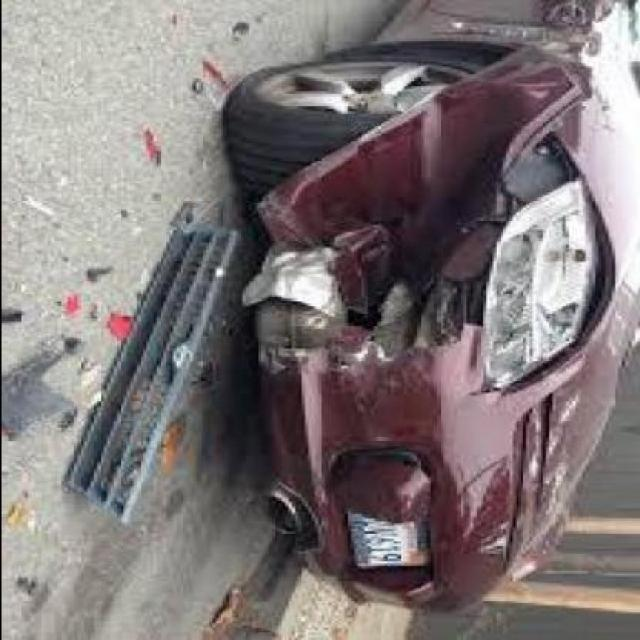damage: (235, 47, 614, 411)
